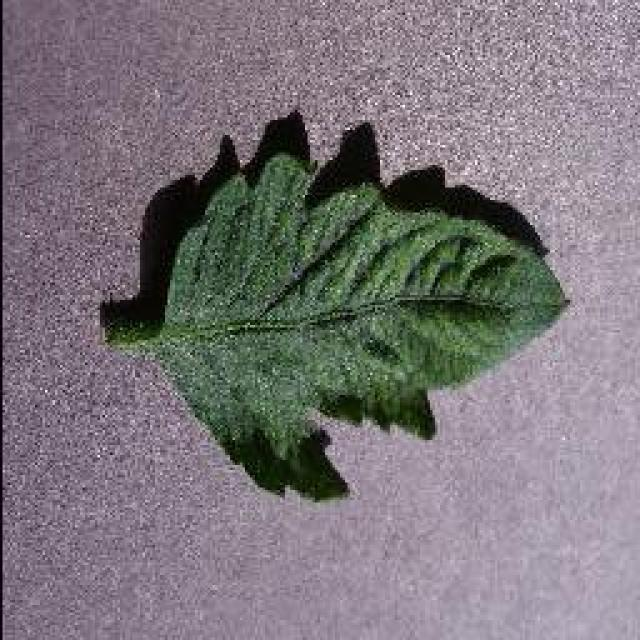Tomato___Tomato_mosaic_virus: (132, 152, 562, 480)
